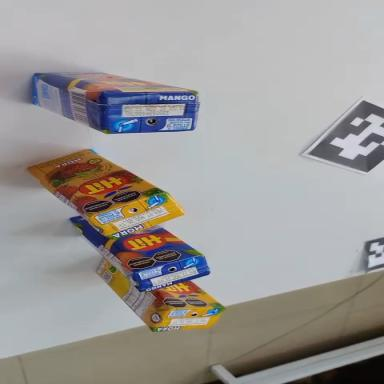HIT-MANGO: (59, 181, 216, 318), (25, 62, 202, 148)
HIT-MORA: (17, 127, 189, 265), (86, 256, 229, 349)
cara_F: (20, 126, 167, 245), (66, 180, 203, 298), (35, 58, 198, 112), (151, 279, 225, 311)
